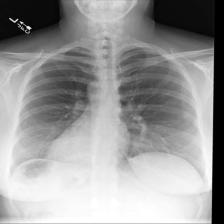normal: (15, 44, 206, 192)
